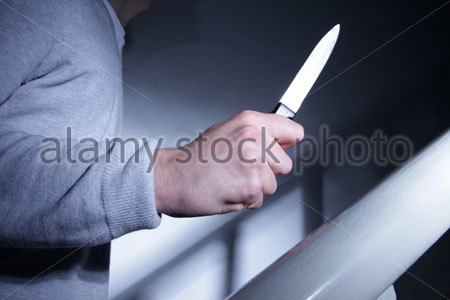knife: (229, 19, 344, 176)
